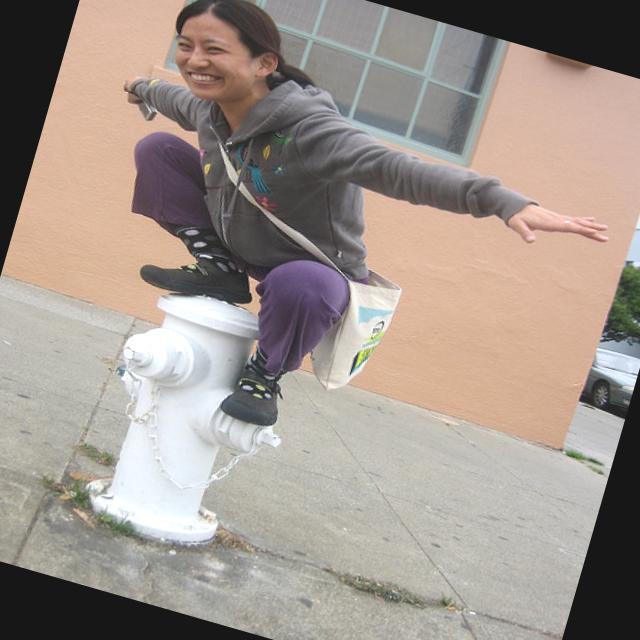Vehicle: (578, 344, 640, 414)
